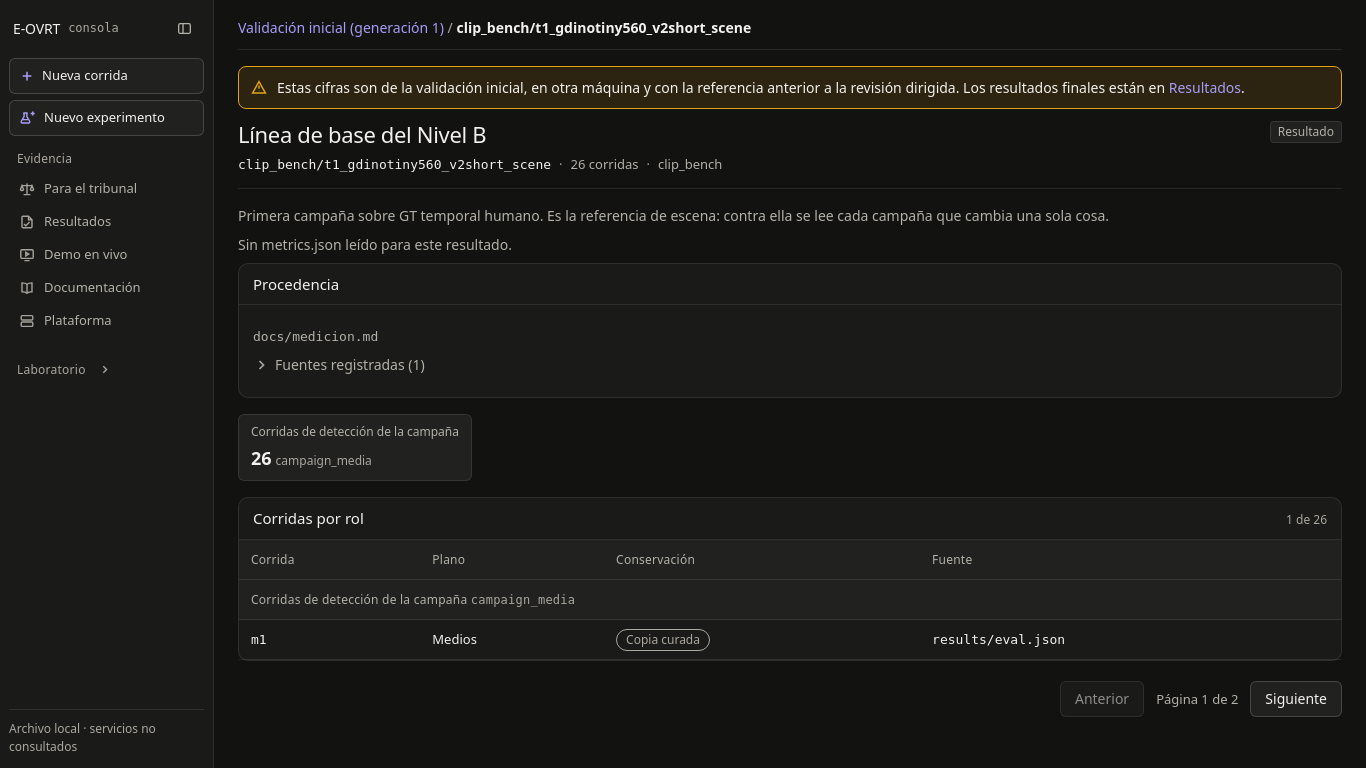
Test: pagina corridas preservando el result_id con barra y el rol
Expected: the link "m1" is shown, [251, 632, 267, 647]
Click the button "Siguiente" at point(1296, 699), box [1250, 681, 1342, 717]
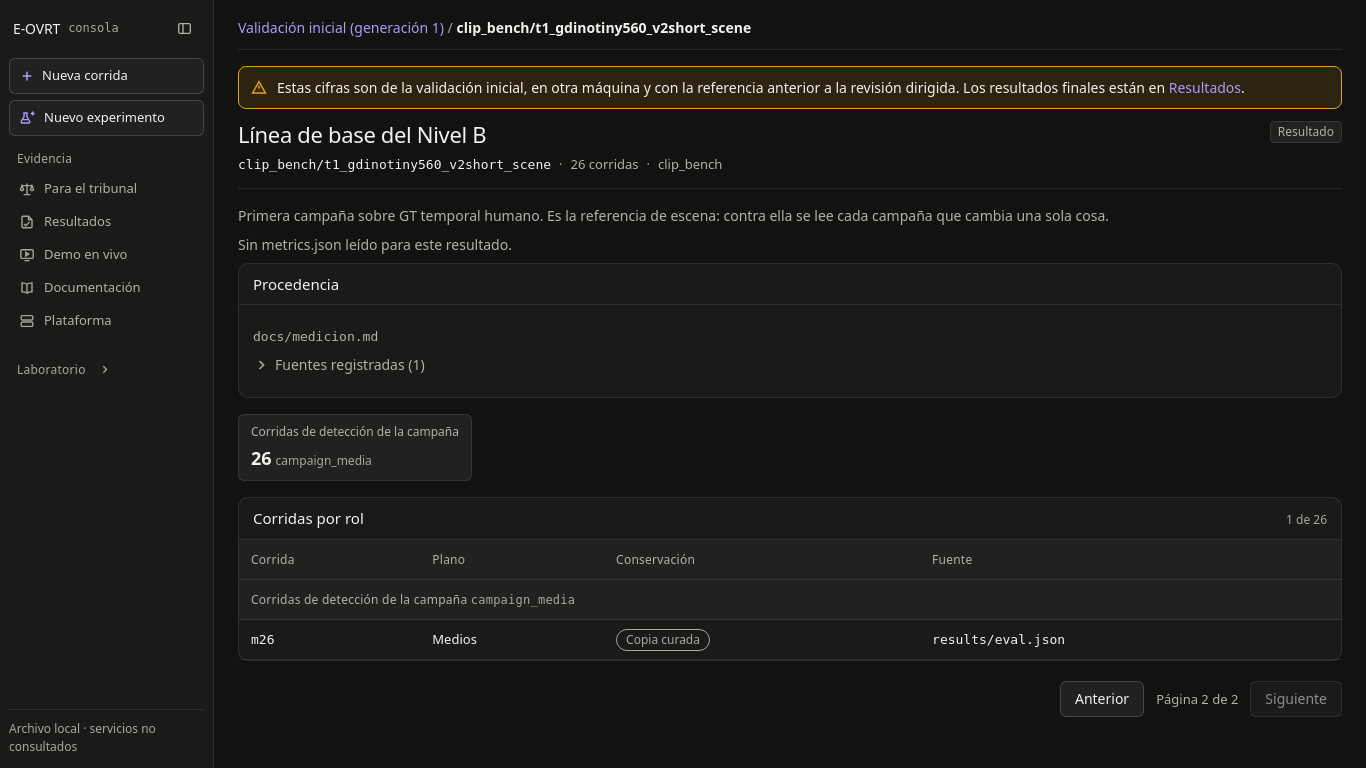
Expected: the link "m26" is shown, [251, 632, 274, 647]
Expected: the link "m1" is gone
Expected: the text "Página 2 de 2" is shown, [1156, 690, 1238, 709]
